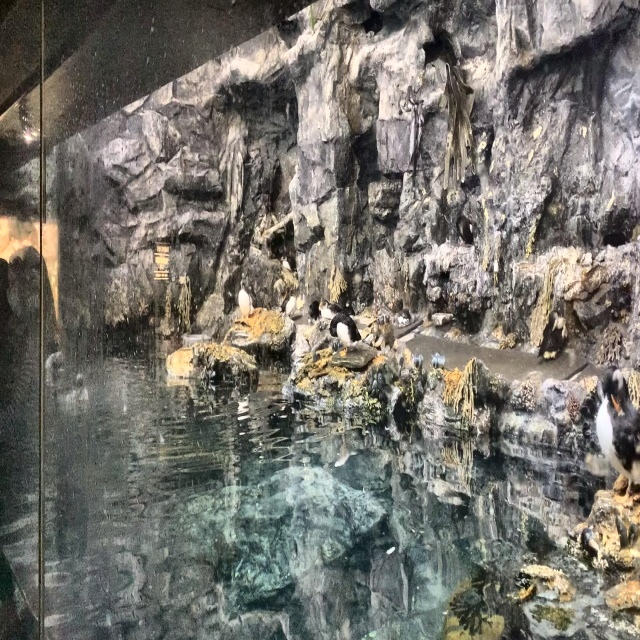puffin: (598, 366, 639, 500), (536, 308, 570, 359), (327, 310, 363, 356), (234, 275, 257, 318), (453, 209, 477, 247), (316, 295, 342, 321), (279, 250, 299, 279), (279, 284, 295, 319), (305, 296, 322, 323)
